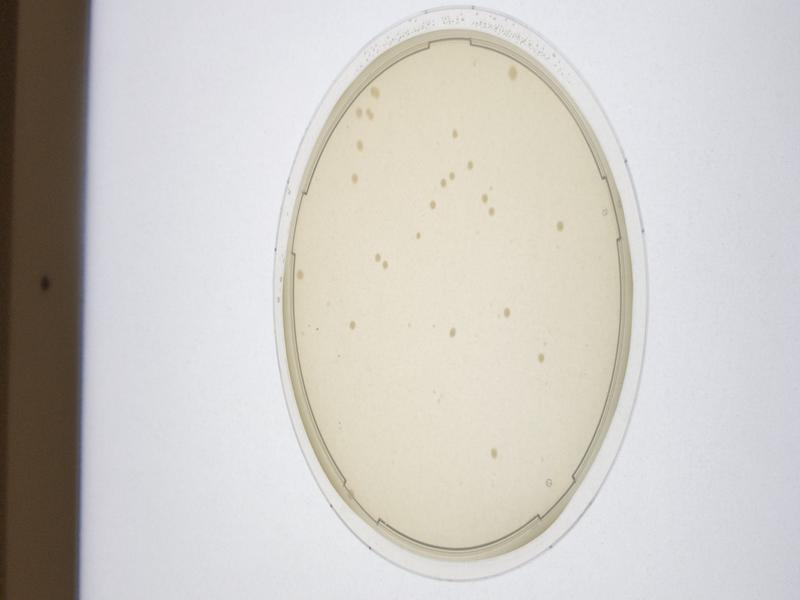colony: (441, 321, 464, 343), (349, 135, 373, 155), (345, 169, 369, 187), (463, 157, 485, 176), (422, 195, 443, 214), (551, 216, 569, 238), (484, 444, 503, 461), (347, 318, 363, 336), (499, 305, 515, 323), (447, 165, 459, 189), (531, 350, 547, 367), (433, 173, 448, 190), (449, 127, 466, 141), (477, 188, 491, 205), (379, 257, 391, 271), (485, 205, 497, 218), (413, 229, 423, 241), (372, 251, 381, 263)
